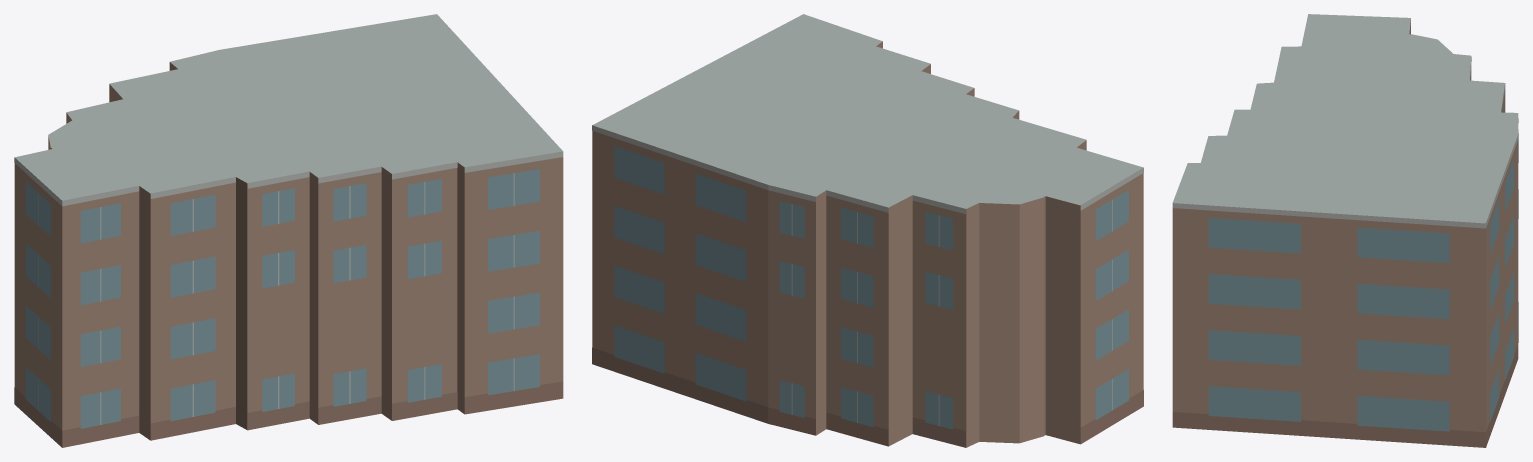
Rendered from survey-upis-32657989.glb.
3 renders of one model, left to right at view 1: azimuth 30°, elevation 25°; view 2: azimuth 150°, elevation 25°; view 3: azimuth 270°, elevation 25°, orthographic. The views are drawn at different scales.
Parts seen in each view (by area): view 1: survey-upis-32657989.tmp; view 2: survey-upis-32657989.tmp; view 3: survey-upis-32657989.tmp.
Part boxes in pixels (x1,y1,x2,y2): survey-upis-32657989.tmp: (14, 14, 563, 447); survey-upis-32657989.tmp: (592, 14, 1143, 447); survey-upis-32657989.tmp: (1172, 14, 1518, 447).
Bounding box in the file's own units: 21.83 × 10.9 × 15.24.
